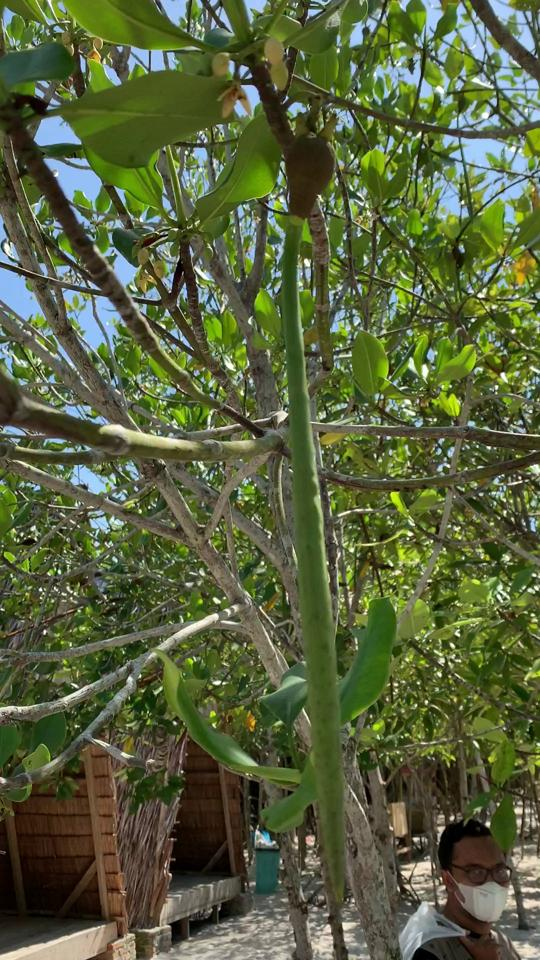setengah matang: (273, 103, 367, 919)
